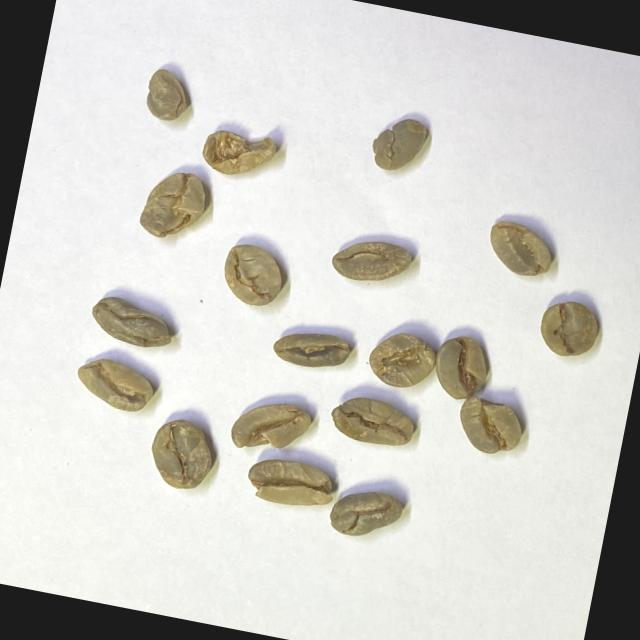bad: (136, 164, 212, 246), (242, 452, 340, 515), (144, 414, 220, 495), (86, 292, 181, 355), (226, 393, 314, 461), (326, 391, 420, 454), (71, 352, 160, 418), (452, 392, 530, 461), (364, 326, 442, 395), (217, 240, 290, 312), (198, 122, 280, 185), (328, 233, 416, 291), (326, 483, 407, 546), (428, 331, 496, 406), (482, 218, 559, 282), (534, 295, 604, 363), (367, 112, 432, 178), (270, 325, 354, 376), (141, 65, 195, 126)
